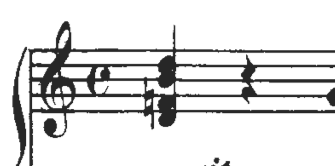common_time_sig: (83, 58, 116, 107)
treble_clef: (33, 13, 82, 141)
